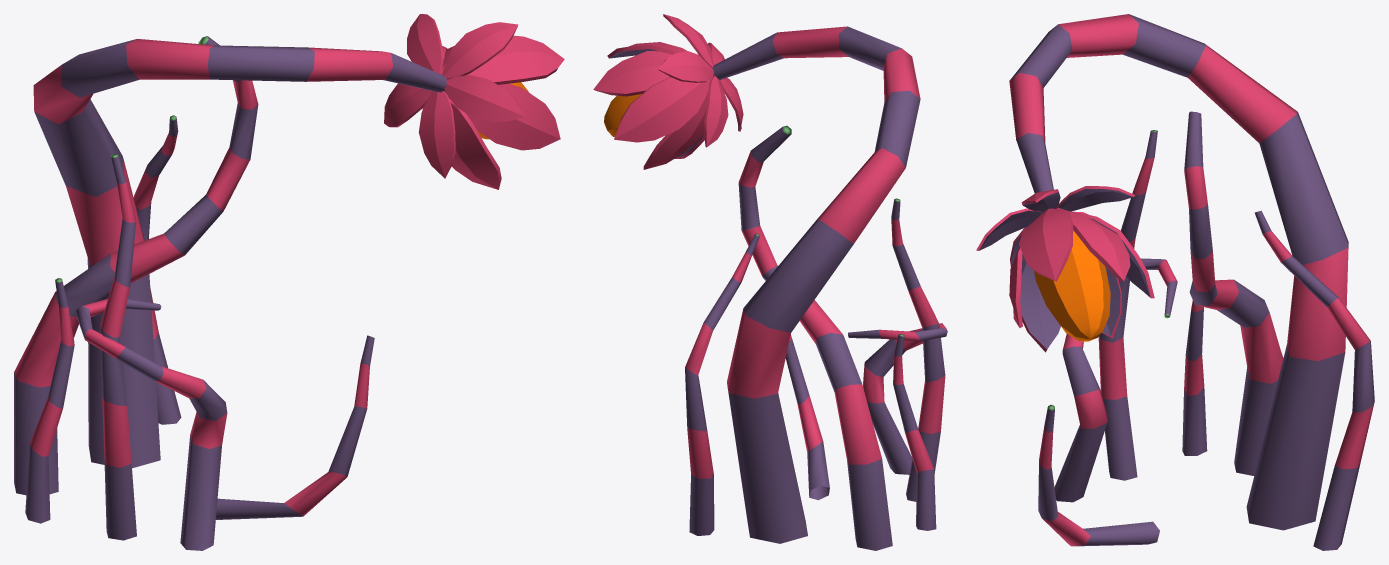
The model's file is Shrub_3.fbx.
3 renders of one model, left to right at view 1: azimuth 30°, elevation 25°; view 2: azimuth 150°, elevation 25°; view 3: azimuth 270°, elevation 25°, orthographic. The views are drawn at different scales.
Visible parts, largest first — view 1: Shrub_3; view 2: Shrub_3; view 3: Shrub_3.
Part boxes in pixels (x1=…): Shrub_3: x1=14, y1=14, x2=564, y2=550; Shrub_3: x1=593, y1=14, x2=947, y2=550; Shrub_3: x1=976, y1=14, x2=1374, y2=550.
Size of the model in its own units: 271 by 289 by 211.
